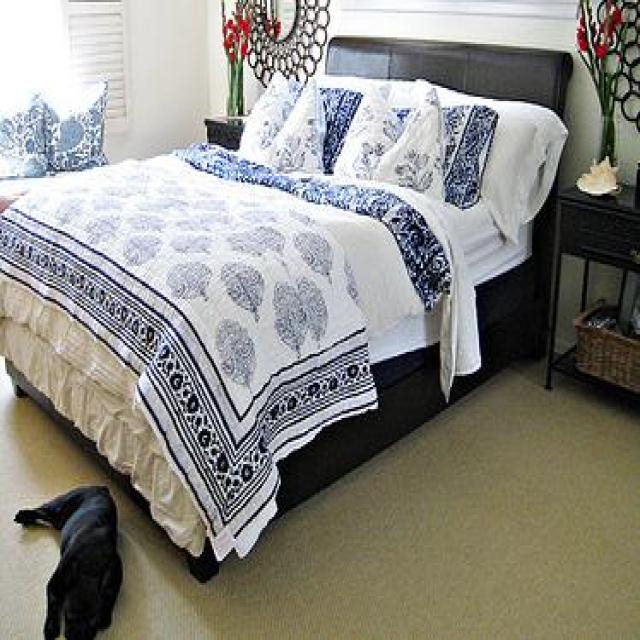bed: (0, 33, 573, 583)
table: (542, 178, 638, 398)
